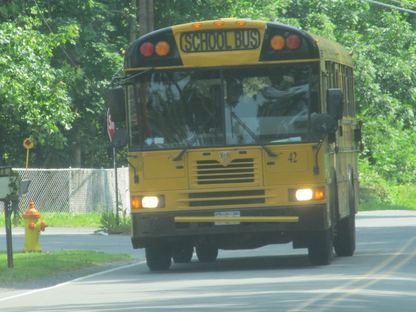bus: (108, 16, 365, 270)
